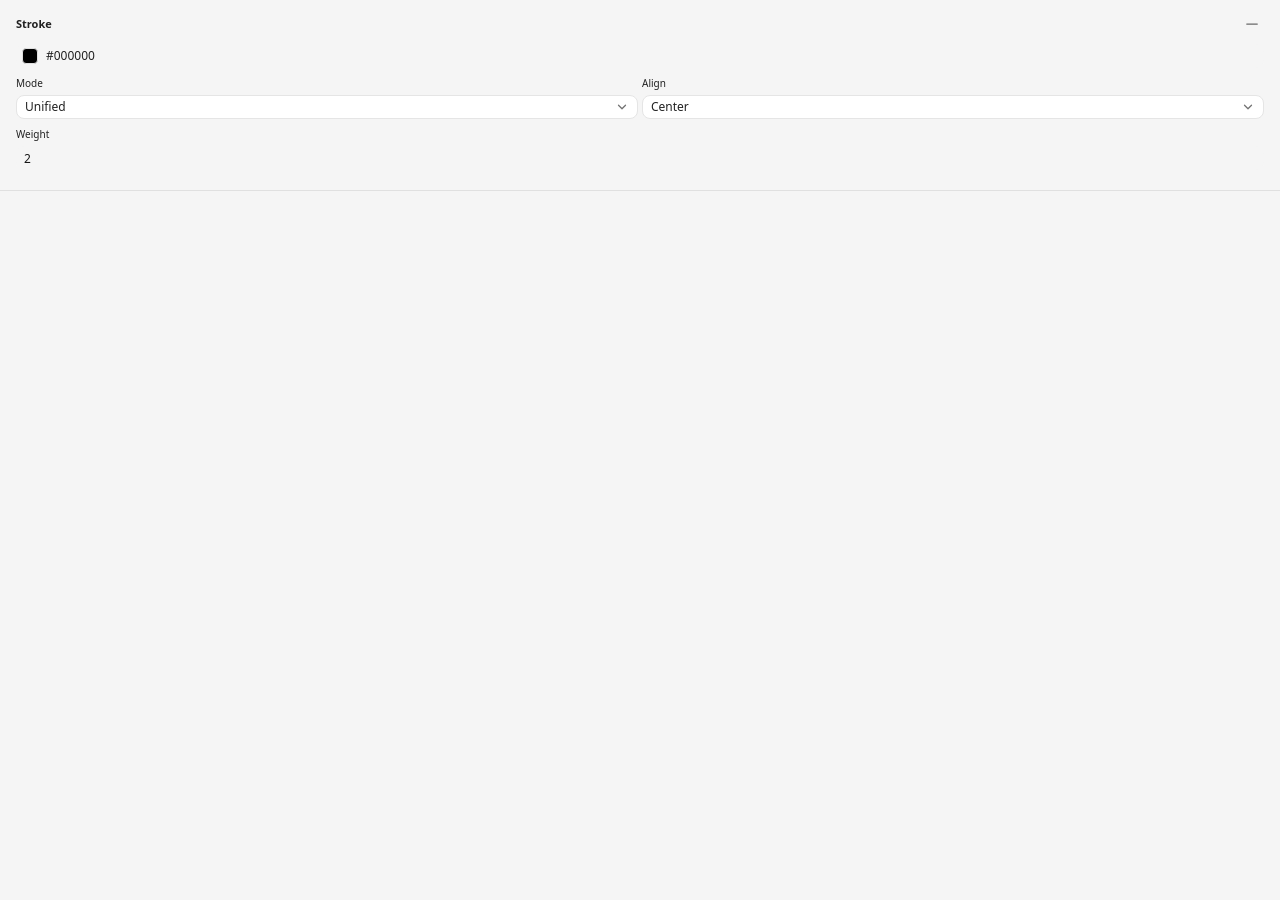
it: <StrokeSection /> › unified stroke › defaults opacity display to 100% when unset
Click the button titled "Edit stroke" at (70, 56), box x1=16 y1=44 x2=1264 y2=68
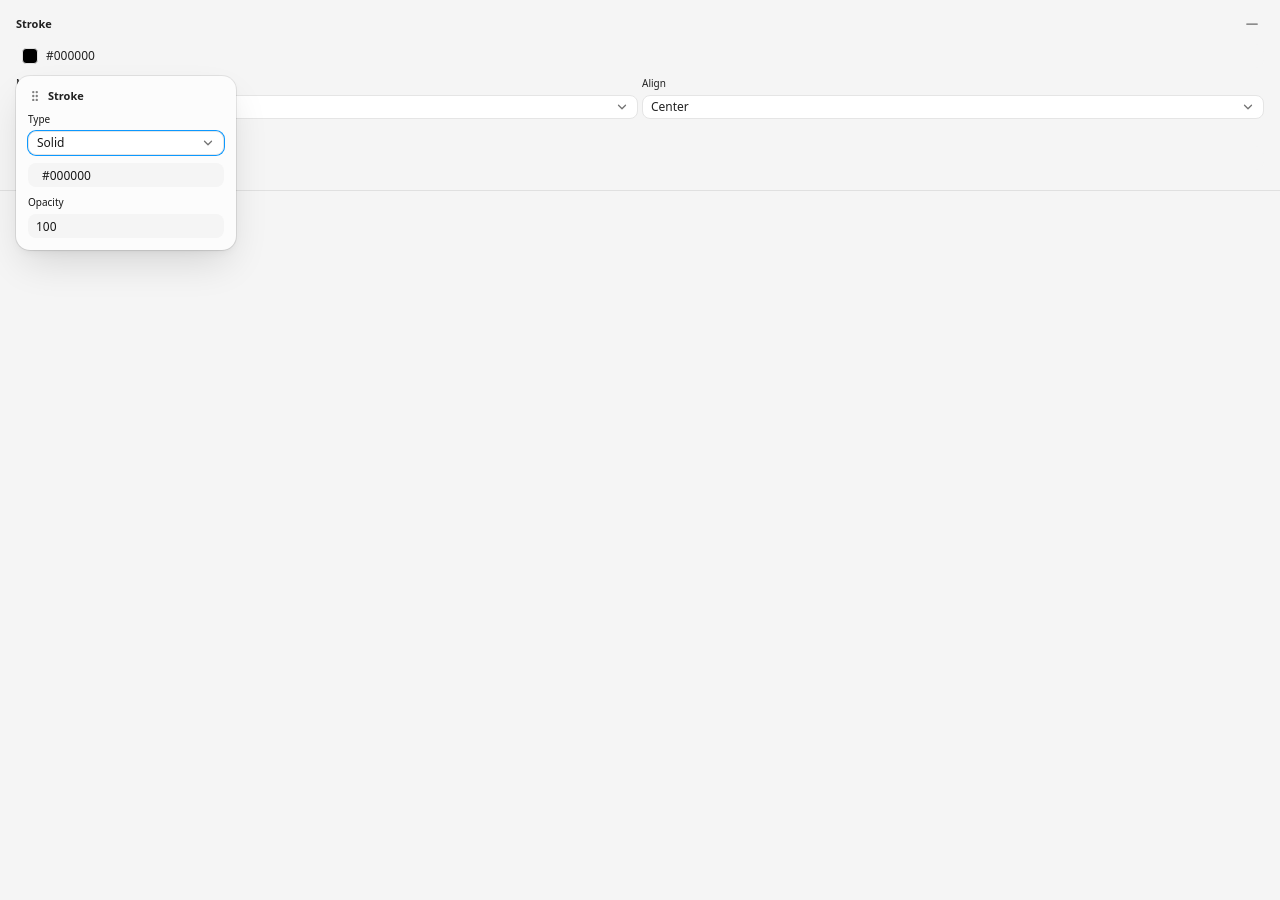
Now the number field below "Opacity" holds "100", box x1=28 y1=214 x2=224 y2=238
